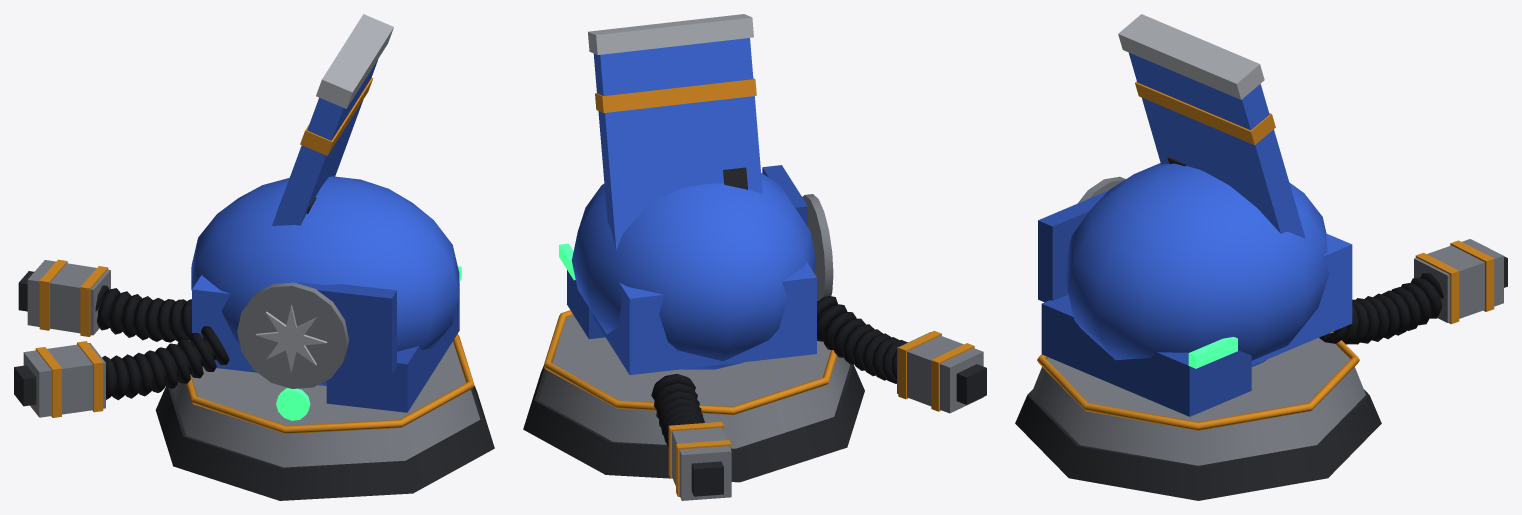
The model's file is techlab.glb.
The picture shows the model from 3 angles, left to right: view 1: azimuth 30°, elevation 25°; view 2: azimuth 150°, elevation 25°; view 3: azimuth 270°, elevation 25°; orthographic projection. The views are drawn at different scales.
Bounding box in the file's own units: 3.09 × 2.49 × 2.82.
